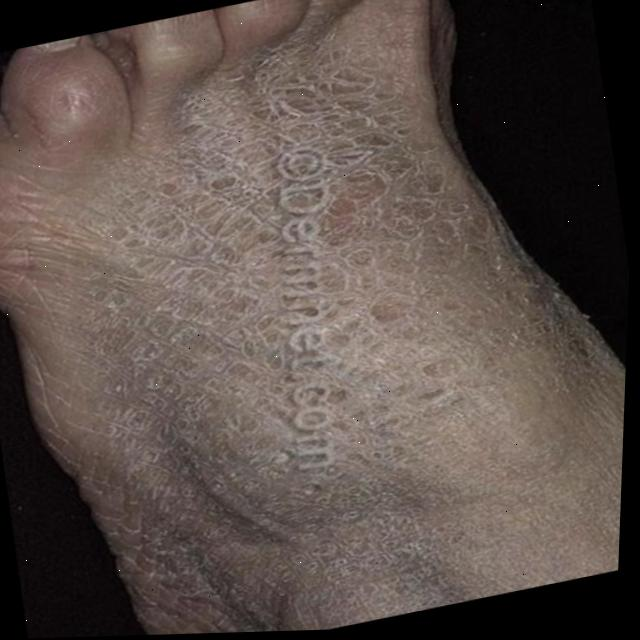Eczema: (62, 0, 555, 637)
